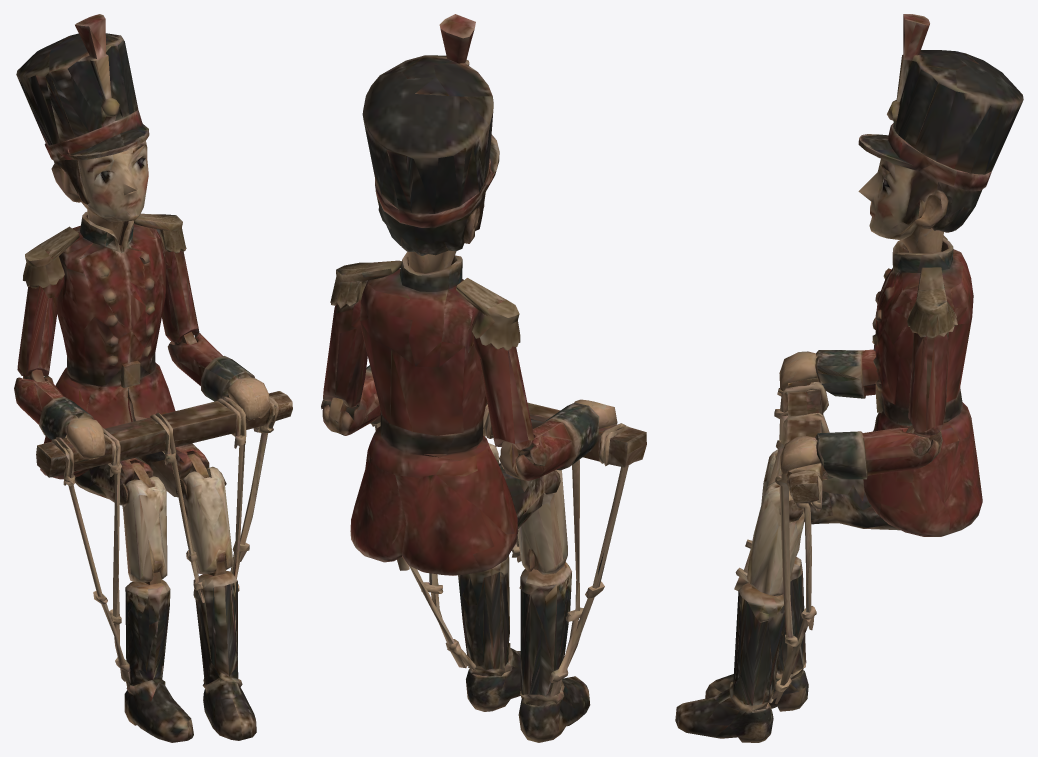
The model's file is up_marionette_soldier.glb.
The picture shows the model from 3 angles, left to right: view 1: azimuth 30°, elevation 25°; view 2: azimuth 150°, elevation 25°; view 3: azimuth 270°, elevation 25°; orthographic projection. The views are drawn at different scales.
Parts seen in each view (by area): view 1: up_marionette_soldier; view 2: up_marionette_soldier; view 3: up_marionette_soldier.
Part boxes in pixels (x1=…): up_marionette_soldier: x1=14, y1=14, x2=292, y2=742; up_marionette_soldier: x1=321, y1=14, x2=646, y2=742; up_marionette_soldier: x1=675, y1=14, x2=1023, y2=742.
Size of the model in its own units: 0.2324 by 0.6 by 0.2722.
1 material, 1 textured.
